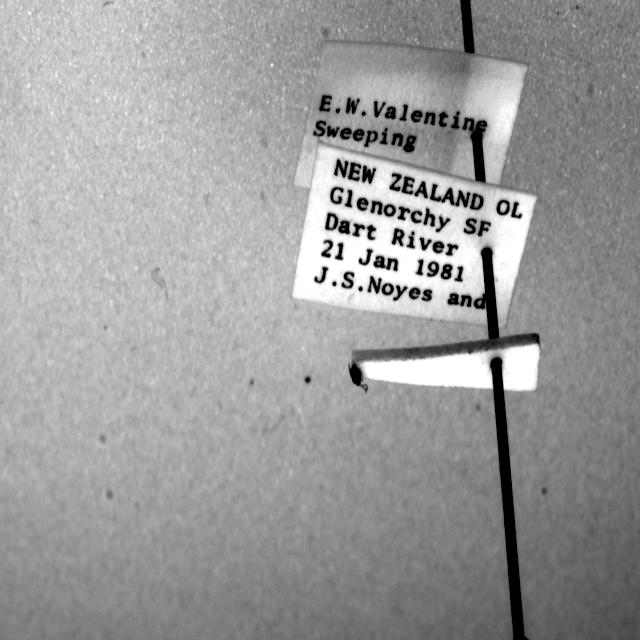typed_label: (292, 142, 536, 328), (294, 41, 528, 188)
